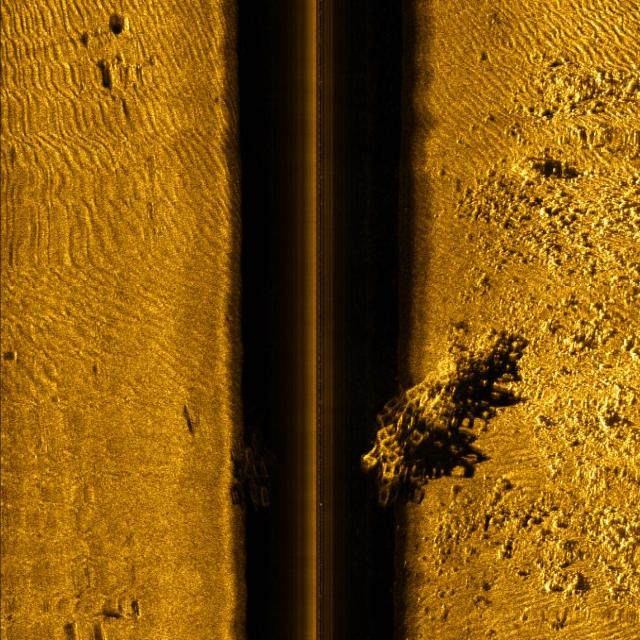artificial reef: (353, 351, 490, 501), (238, 424, 294, 529)
